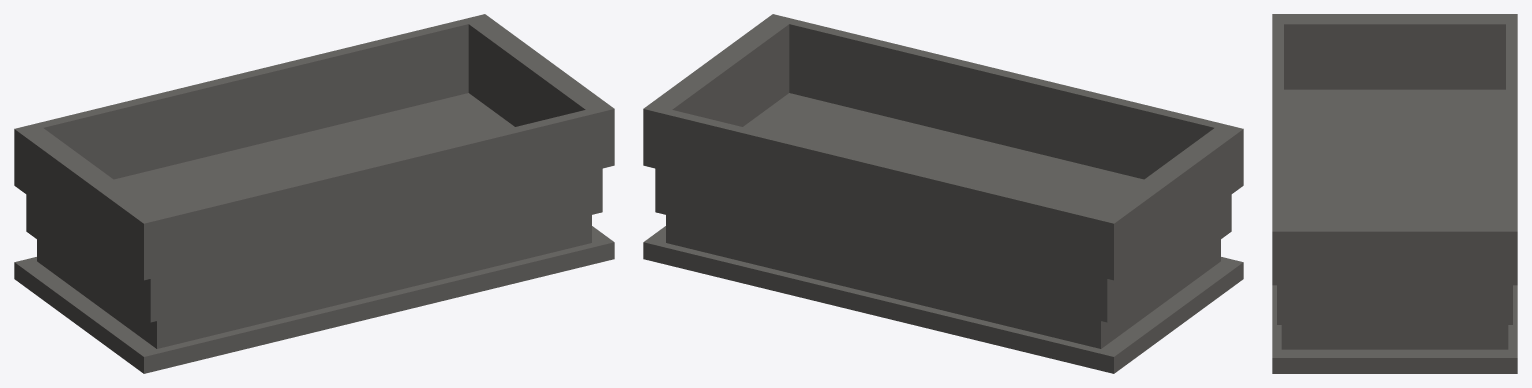
Rendered from trough.fbx.
The picture shows the model from 3 angles, left to right: view 1: azimuth 30°, elevation 25°; view 2: azimuth 150°, elevation 25°; view 3: azimuth 270°, elevation 25°; orthographic projection. The views are drawn at different scales.
Parts seen in each view (by area): view 1: Plane; view 2: Plane; view 3: Plane.
Part boxes in pixels (bbox=[...]): Plane: bbox=[14, 14, 614, 373]; Plane: bbox=[643, 14, 1243, 373]; Plane: bbox=[1272, 14, 1517, 373].
Size of the model in its own units: 151 by 46.1 by 72.07.
